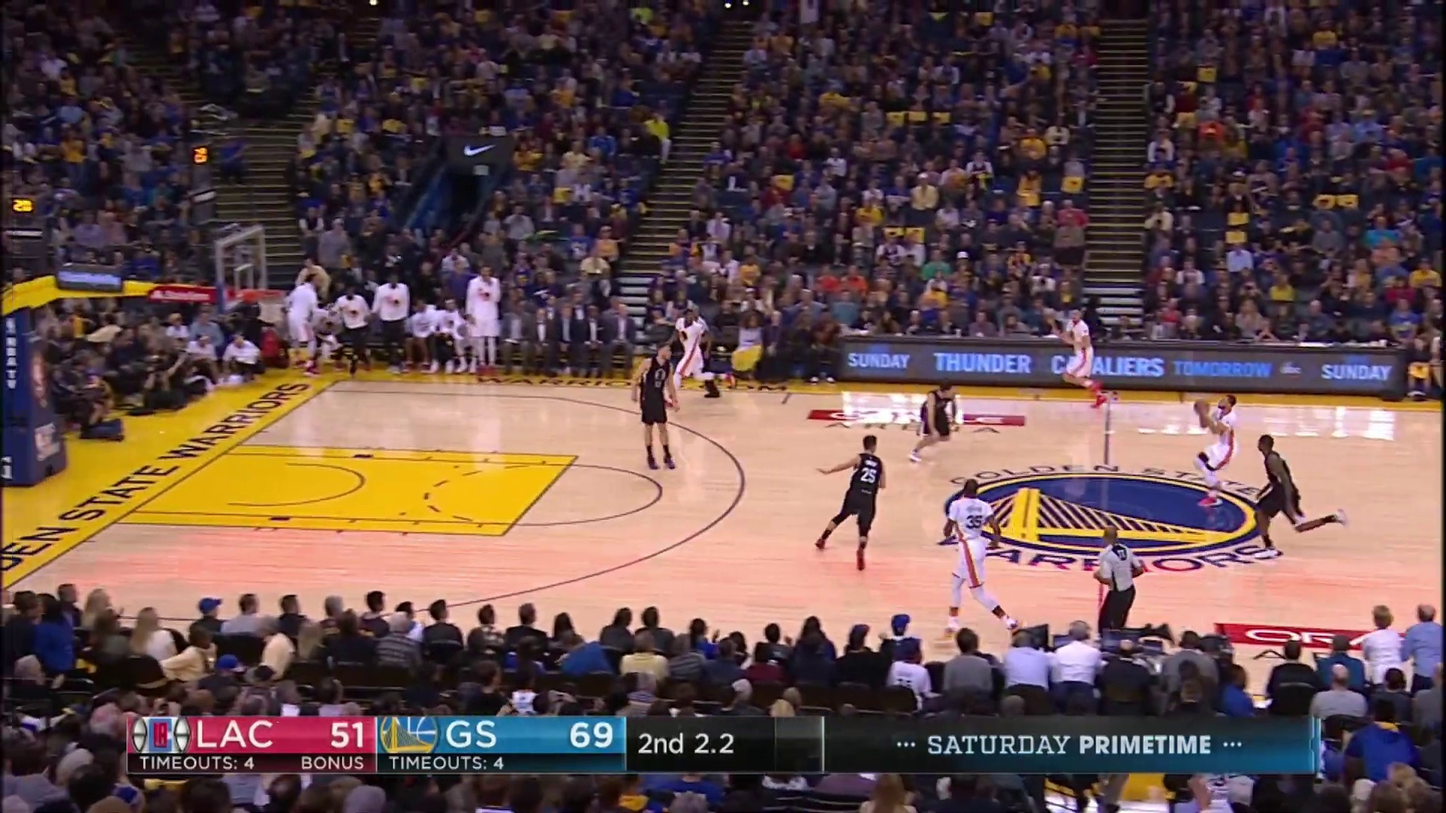basket_hoop: (199, 210, 302, 326)
